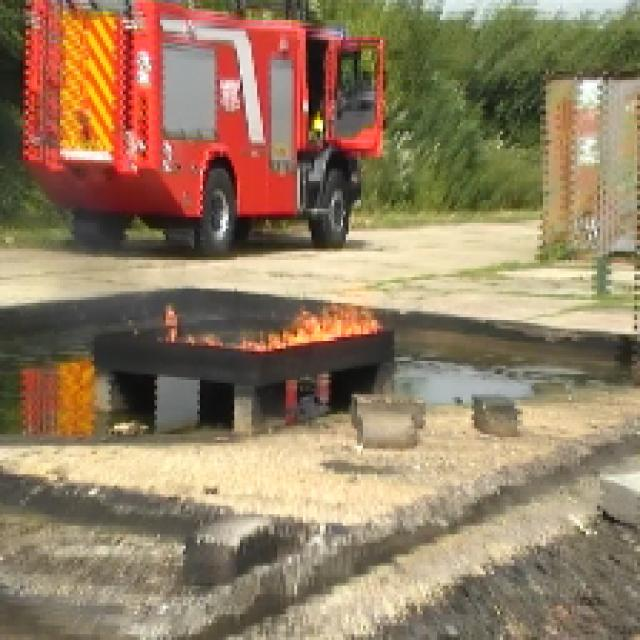fire: (267, 307, 375, 341)
